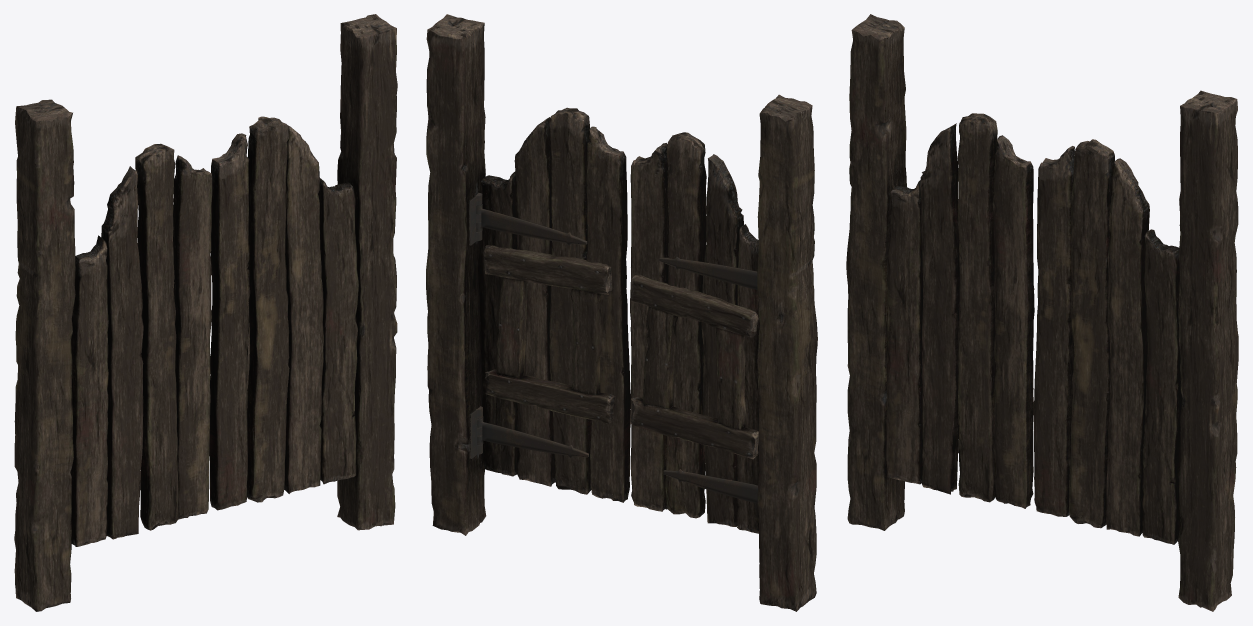
The model's file is Gate.fbx.
3 renders of one model, left to right at view 1: azimuth 30°, elevation 25°; view 2: azimuth 150°, elevation 25°; view 3: azimuth 330°, elevation 25°, orthographic.
Parts seen in each view (by area): view 1: Door Left.001, Door Right.001, Post Rigth.001, Post Left.001; view 2: Door Left.001, Door Right.001, Post Rigth.001, Post Left.001; view 3: Door Left.001, Door Right.001, Post Left.001, Post Rigth.001.
Boxes of the visible parts, x1,y1,x2,y2 form: Door Left.001: [209, 116, 358, 510]; Door Right.001: [70, 143, 212, 546]; Post Rigth.001: [14, 99, 75, 611]; Post Left.001: [337, 14, 397, 530]; Door Left.001: [476, 107, 630, 502]; Door Right.001: [630, 132, 759, 533]; Post Rigth.001: [757, 94, 817, 611]; Post Left.001: [426, 14, 486, 535]; Door Left.001: [1033, 139, 1182, 544]; Door Right.001: [886, 113, 1034, 508]; Post Left.001: [1178, 90, 1238, 611]; Post Rigth.001: [846, 14, 906, 530].
Bounding box in the file's own units: 359 × 461 × 45.79.
Materials: 1 (1 with a texture image).
